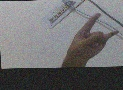hand: (67, 12, 121, 60)
